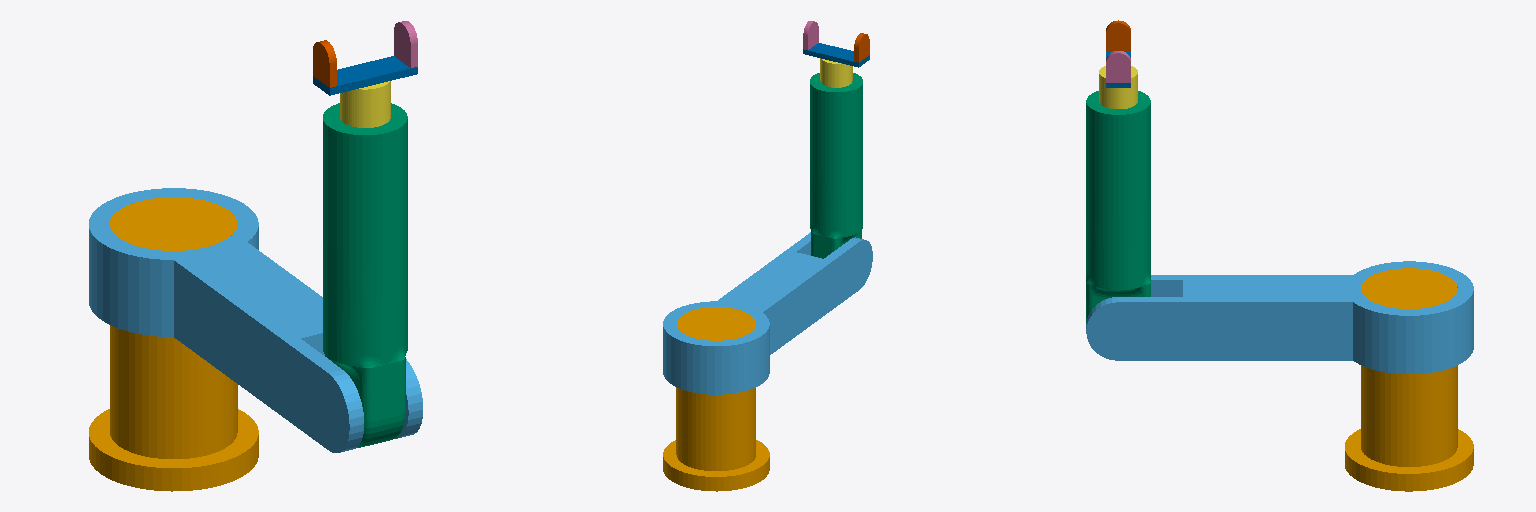
The robot description file, URDF, robot "milling_robot":
<?xml version="1.0" ?>
<robot name="milling_robot">

  <link name="base_link">
    <inertial>
      <origin xyz="-1.7248355702659004e-13 0.0 0.014025773195876333" rpy="0 0 0"/>
      <mass value="0.044853107363923866"/>
      <inertia ixx="4e-06" iyy="4e-06" izz="1e-06" ixy="-0.0" iyz="0.0" ixz="-0.0"/>
    </inertial>
    <visual>
      <origin xyz="0 0 0" rpy="0 0 0"/>
      <geometry>
        <mesh filename="package://milling_robot_description/meshes/base_link.stl" scale="0.001 0.001 0.001"/>
      </geometry>
    </visual>
    <collision>
      <origin xyz="0 0 0" rpy="0 0 0"/>
      <geometry>
        <mesh filename="package://milling_robot_description/meshes/base_link.stl" scale="0.001 0.001 0.001"/>
      </geometry>
    </collision>
  </link>

  <link name="link1">
    <inertial>
      <origin xyz="8.657369613890436e-12 -0.017892760985166803 -0.0049999999999999975" rpy="0 0 0"/>
      <mass value="0.03512808228790527"/>
      <inertia ixx="8e-06" iyy="1e-06" izz="9e-06" ixy="0.0" iyz="-0.0" ixz="-0.0"/>
    </inertial>
    <visual>
      <origin xyz="-0.0 -0.0 -0.03" rpy="0 0 0"/>
      <geometry>
        <mesh filename="package://milling_robot_description/meshes/link1.stl" scale="0.001 0.001 0.001"/>
      </geometry>
    </visual>
    <collision>
      <origin xyz="-0.0 -0.0 -0.03" rpy="0 0 0"/>
      <geometry>
        <mesh filename="package://milling_robot_description/meshes/link1.stl" scale="0.001 0.001 0.001"/>
      </geometry>
    </collision>
  </link>

  <link name="link2">
    <inertial>
      <origin xyz="-0.0030000076939347767 2.070121761510446e-09 0.016687618629062588" rpy="0 0 0"/>
      <mass value="0.02169670359792929"/>
      <inertia ixx="3e-06" iyy="3e-06" izz="0.0" ixy="0.0" iyz="0.0" ixz="-0.0"/>
    </inertial>
    <visual>
      <origin xyz="-0.003 0.045 -0.025" rpy="0 0 0"/>
      <geometry>
        <mesh filename="package://milling_robot_description/meshes/link2.stl" scale="0.001 0.001 0.001"/>
      </geometry>
    </visual>
    <collision>
      <origin xyz="-0.003 0.045 -0.025" rpy="0 0 0"/>
      <geometry>
        <mesh filename="package://milling_robot_description/meshes/link2.stl" scale="0.001 0.001 0.001"/>
      </geometry>
    </collision>
  </link>

  <link name="link3">
    <inertial>
      <origin xyz="-4.487079278032369e-11 -1.3183898417423734e-16 0.0024999999999999606" rpy="0 0 0"/>
      <mass value="0.0006165375582669755"/>
      <inertia ixx="0.0" iyy="0.0" izz="0.0" ixy="-0.0" iyz="-0.0" ixz="-0.0"/>
    </inertial>
    <visual>
      <origin xyz="0.0 0.045 -0.062" rpy="0 0 0"/>
      <geometry>
        <mesh filename="package://milling_robot_description/meshes/link3.stl" scale="0.001 0.001 0.001"/>
      </geometry>
    </visual>
    <collision>
      <origin xyz="0.0 0.045 -0.062" rpy="0 0 0"/>
      <geometry>
        <mesh filename="package://milling_robot_description/meshes/link3.stl" scale="0.001 0.001 0.001"/>
      </geometry>
    </collision>
  </link>

  <link name="link4">
    <inertial>
      <origin xyz="-4.488899779880702e-11 1.935429594368543e-11 -0.01324937531353633" rpy="0 0 0"/>
      <mass value="0.003336180247396665"/>
      <inertia ixx="0.0" iyy="0.0" izz="0.0" ixy="0.0" iyz="-0.0" ixz="-0.0"/>
    </inertial>
    <visual>
      <origin xyz="0.0 0.045 -0.067" rpy="0 0 0"/>
      <geometry>
        <mesh filename="package://milling_robot_description/meshes/link4.stl" scale="0.001 0.001 0.001"/>
      </geometry>
    </visual>
    <collision>
      <origin xyz="0.0 0.045 -0.067" rpy="0 0 0"/>
      <geometry>
        <mesh filename="package://milling_robot_description/meshes/link4.stl" scale="0.001 0.001 0.001"/>
      </geometry>
    </collision>
  </link>

  <link name="Gripper1">
    <inertial>
      <origin xyz="0.0004999999552965165 0.0020000003264611516 0.0023071958149916277" rpy="0 0 0"/>
      <mass value="0.0001435229790341507"/>
      <inertia ixx="0.0" iyy="0.0" izz="0.0" ixy="-0.0" iyz="0.0" ixz="-0.0"/>
    </inertial>
    <visual>
      <origin xyz="0.006 0.047 -0.068" rpy="0 0 0"/>
      <geometry>
        <mesh filename="package://milling_robot_description/meshes/Gripper1.stl" scale="0.001 0.001 0.001"/>
      </geometry>
    </visual>
    <collision>
      <origin xyz="0.006 0.047 -0.068" rpy="0 0 0"/>
      <geometry>
        <mesh filename="package://milling_robot_description/meshes/Gripper1.stl" scale="0.001 0.001 0.001"/>
      </geometry>
    </collision>
  </link>

  <link name="Gripper2">
    <inertial>
      <origin xyz="-0.0005000000447034827 0.00200000018199889 0.0023071958302258028" rpy="0 0 0"/>
      <mass value="0.00014352299037443815"/>
      <inertia ixx="0.0" iyy="0.0" izz="0.0" ixy="0.0" iyz="0.0" ixz="0.0"/>
    </inertial>
    <visual>
      <origin xyz="-0.006 0.047 -0.068" rpy="0 0 0"/>
      <geometry>
        <mesh filename="package://milling_robot_description/meshes/Gripper2.stl" scale="0.001 0.001 0.001"/>
      </geometry>
    </visual>
    <collision>
      <origin xyz="-0.006 0.047 -0.068" rpy="0 0 0"/>
      <geometry>
        <mesh filename="package://milling_robot_description/meshes/Gripper2.stl" scale="0.001 0.001 0.001"/>
      </geometry>
    </collision>
  </link>

  <joint name="Q1" type="revolute">
    <origin xyz="0.0 0.0 0.03" rpy="0 0 0"/>
    <limit effort="1000.0" lower="-1.57" upper="1.57" velocity="0.5"/>
    <parent link="base_link"/>
    <child link="link1"/>
    <axis xyz="0.0 0.0 1.0"/>
  </joint>

  <joint name="Q2" type="revolute">
    <origin xyz="0.003 -0.045 -0.005" rpy="0 0 0"/>
    <limit effort="1000.0" lower="-1.57" upper="1.57" velocity="0.5"/>
    <parent link="link1"/>
    <child link="link2"/>
    <axis xyz="-1.0 0.0 0.0"/>
  </joint>

  <joint name="Q3" type="revolute">
    <origin xyz="-0.003 0.0 0.037" rpy="0 0 0"/>
    <limit effort="1000.0" lower="-1.57" upper="1.57" velocity="0.5"/>
    <parent link="link2"/>
    <child link="link3"/>
    <axis xyz="0.0 -0.0 1.0"/>
  </joint>

  <joint name="D4" type="prismatic">
    <origin xyz="0.0 0.0 0.005" rpy="0 0 0"/>
    <parent link="link3"/>
    <child link="link4"/>
    <axis xyz="0.0 -0.0 1.0"/>
    <limit effort="1000.0" lower="0.0" upper="0.03" velocity="0.5"/>
  </joint>

  <joint name="G1" type="prismatic">
    <origin xyz="-0.006 -0.002 0.001" rpy="0 0 0"/>
    <parent link="link4"/>
    <child link="Gripper1"/>
    <axis xyz="1.0 -0.0 -0.0"/>
    <limit effort="1000.0" lower="0.0" upper="0.006" velocity="0.5"/>
  </joint>

  <joint name="G2" type="prismatic">
    <origin xyz="0.006 -0.002 0.001" rpy="0 0 0"/>
    <parent link="link4"/>
    <child link="Gripper2"/>
    <axis xyz="-1.0 -0.0 -0.0"/>
    <limit effort="1000.0" lower="0.0" upper="0.006" velocity="0.5"/>
  </joint>

</robot>

--- Render facts (derived) ---
Views: 3 orthographic renders of the robot side by side, from view 1: azimuth 30°, elevation 25°; view 2: azimuth 150°, elevation 25°; view 3: azimuth 270°, elevation 25°.
Model milling_robot with 7 links and 6 joints (3 revolute, 3 prismatic), rooted at base_link, posed every joint at zero.
Links seen in each view (by area): view 1: link1, base_link, link2, link3, link4, Gripper1, Gripper2; view 2: link1, base_link, link2, link3, link4; view 3: link1, base_link, link2, link3, Gripper2, Gripper1.
Link boxes in pixels (x1=…): link1: x1=89, y1=188, x2=422, y2=452; base_link: x1=89, y1=197, x2=258, y2=491; link2: x1=323, y1=103, x2=407, y2=447; link3: x1=340, y1=81, x2=390, y2=127; link4: x1=313, y1=56, x2=417, y2=95; Gripper1: x1=313, y1=40, x2=336, y2=87; Gripper2: x1=394, y1=21, x2=417, y2=67; link1: x1=663, y1=232, x2=872, y2=394; base_link: x1=663, y1=307, x2=769, y2=491; link2: x1=810, y1=73, x2=862, y2=258; link3: x1=820, y1=58, x2=852, y2=87; link4: x1=803, y1=43, x2=869, y2=67; link1: x1=1086, y1=261, x2=1473, y2=373; base_link: x1=1345, y1=268, x2=1473, y2=491; link2: x1=1086, y1=91, x2=1150, y2=322; link3: x1=1099, y1=66, x2=1137, y2=108; Gripper2: x1=1106, y1=51, x2=1130, y2=82; Gripper1: x1=1106, y1=20, x2=1130, y2=51.
Bounding box of the posed robot: 0.02 × 0.06 × 0.073 m (x, y, z).
Meshes: 7 distinct files referenced, 7 mesh visuals loaded (7 binary STL).